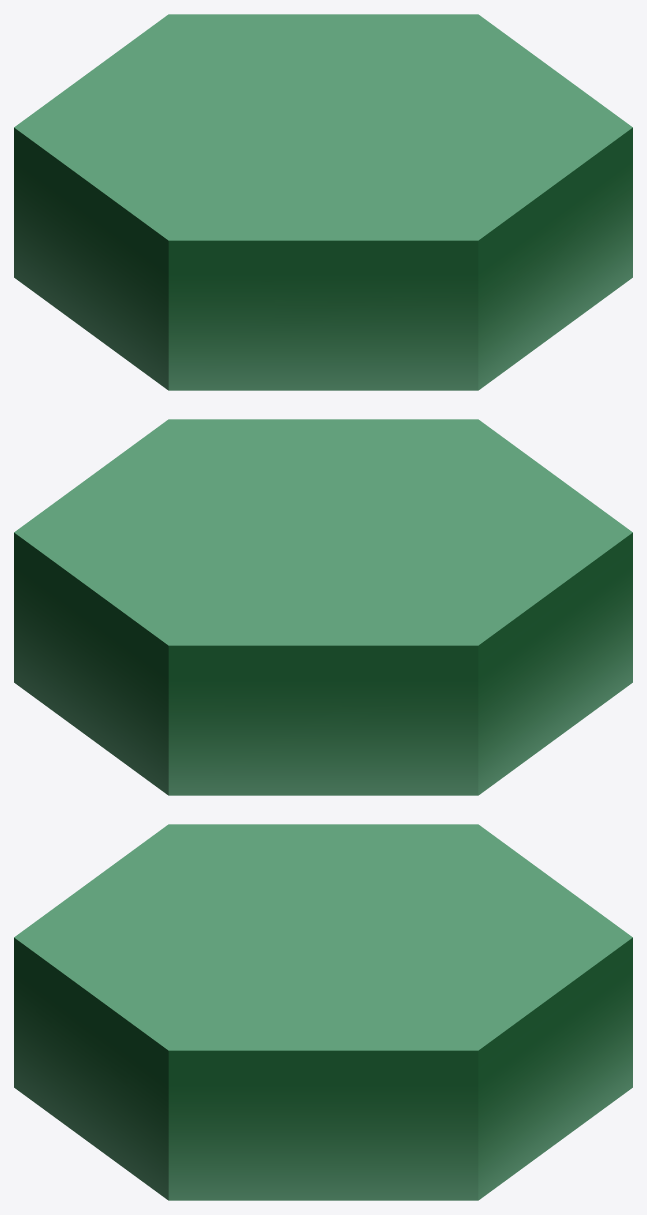
File: Grade_4.fbx
The picture shows the model from 3 angles, top to bottom: view 1: azimuth 30°, elevation 25°; view 2: azimuth 150°, elevation 25°; view 3: azimuth 270°, elevation 25°; orthographic projection.
Parts seen in each view (by area): view 1: Grade_2; view 2: Grade_2; view 3: Grade_2.
Part boxes in pixels (box(x1,y1,x2,y2)): Grade_2: box(14, 14, 632, 390); Grade_2: box(14, 419, 632, 795); Grade_2: box(14, 824, 632, 1200).
Size of the model in its own units: 1.73 by 2 by 0.5351.
